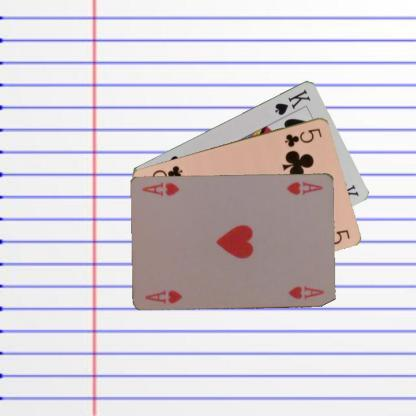5c: (282, 125, 323, 148)
Ah: (284, 178, 325, 196), (143, 287, 184, 305)
Ks: (272, 86, 312, 116)
